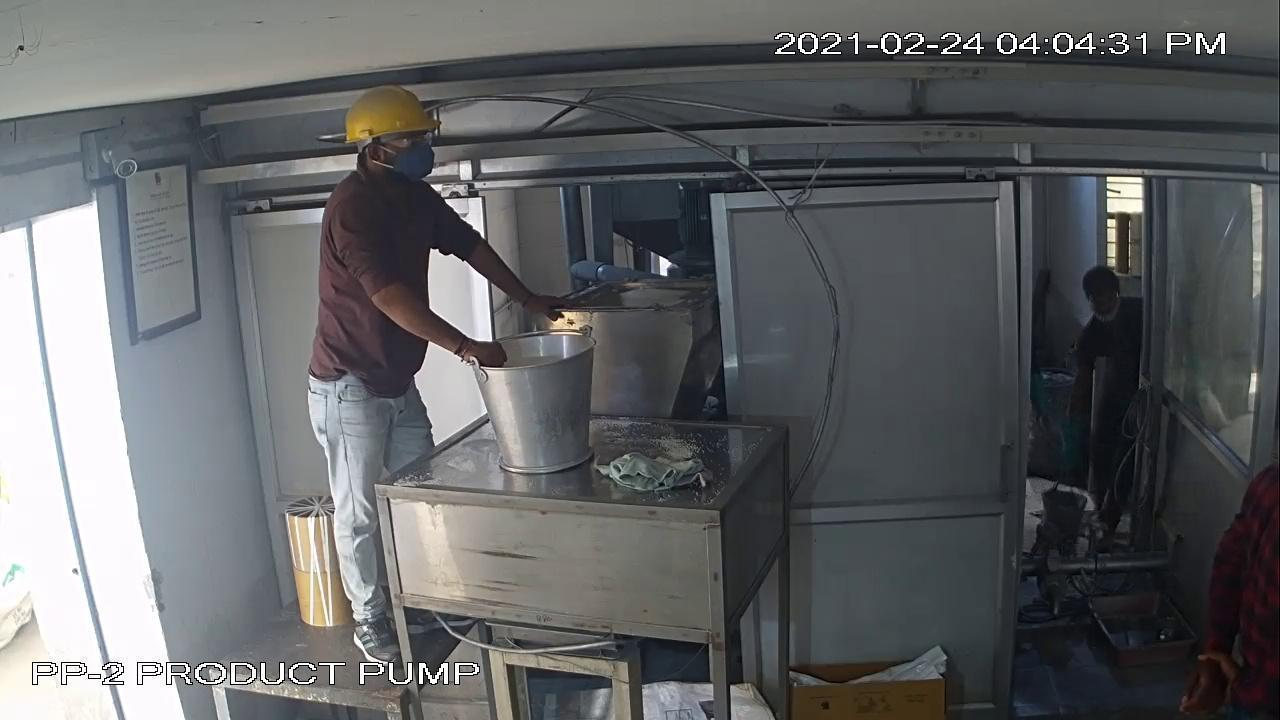helmet: (330, 81, 444, 152)
